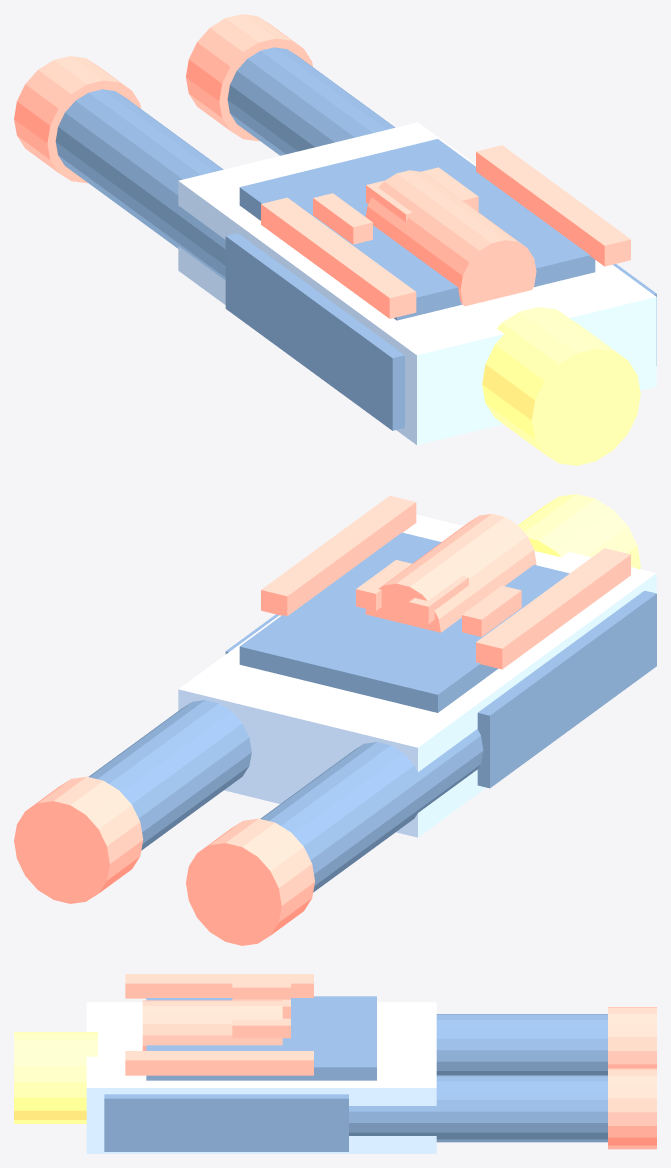
File: arc-2.glb
3 renders of one model, top to bottom at view 1: azimuth 30°, elevation 25°; view 2: azimuth 150°, elevation 25°; view 3: azimuth 270°, elevation 25°, orthographic. The views are drawn at different scales.
Visible parts, largest first — view 1: reactor_housing, power_cap, top_armor, rail_-1, barrel_-1, reactor_core, barrel_1, energy_-1, energy_1, muzzle_-1, muzzle_1, charge_0 (+2 smaller); view 2: reactor_housing, top_armor, rail_-1, barrel_-1, barrel_1, muzzle_1, muzzle_-1, reactor_core, energy_-1, energy_1, power_cap, charge_0 (+2 smaller); view 3: reactor_housing, barrel_1, rail_1, barrel_-1, top_armor, power_cap, reactor_core, energy_1, muzzle_1, energy_-1, muzzle_-1, charge_2 (+2 smaller).
Boxes of the visible parts, bbox=[...] form: reactor_housing: bbox=[178, 122, 656, 444]; power_cap: bbox=[482, 307, 640, 465]; top_armor: bbox=[239, 139, 595, 320]; rail_-1: bbox=[225, 233, 404, 430]; barrel_-1: bbox=[55, 89, 225, 280]; reactor_core: bbox=[365, 170, 536, 306]; barrel_1: bbox=[227, 47, 395, 155]; energy_-1: bbox=[261, 197, 416, 318]; energy_1: bbox=[476, 145, 630, 266]; muzzle_-1: bbox=[14, 56, 141, 183]; muzzle_1: bbox=[186, 14, 312, 141]; charge_0: bbox=[313, 193, 372, 244]; reactor_housing: bbox=[178, 515, 656, 837]; top_armor: bbox=[239, 532, 569, 712]; rail_-1: bbox=[477, 590, 656, 788]; barrel_-1: bbox=[260, 729, 483, 892]; barrel_1: bbox=[88, 700, 251, 850]; muzzle_1: bbox=[14, 776, 143, 903]; muzzle_-1: bbox=[186, 818, 314, 945]; reactor_core: bbox=[365, 514, 536, 632]; energy_-1: bbox=[476, 548, 630, 669]; energy_1: bbox=[261, 495, 416, 616]; power_cap: bbox=[518, 494, 640, 568]; charge_0: bbox=[462, 585, 521, 636]; reactor_housing: bbox=[86, 1002, 436, 1153]; barrel_1: bbox=[349, 1075, 607, 1142]; rail_1: bbox=[104, 1094, 348, 1151]; barrel_-1: bbox=[436, 1014, 607, 1075]; top_armor: bbox=[146, 996, 376, 1080]; power_cap: bbox=[14, 1032, 97, 1123]; reactor_core: bbox=[142, 1000, 282, 1050]; energy_1: bbox=[125, 1051, 313, 1075]; muzzle_1: bbox=[608, 1068, 656, 1149]; energy_-1: bbox=[125, 974, 313, 998]; muzzle_-1: bbox=[608, 1007, 656, 1068]; charge_2: bbox=[232, 1018, 290, 1038].
Size of the model in its own units: 1.62 by 0.9115 by 4.6.
